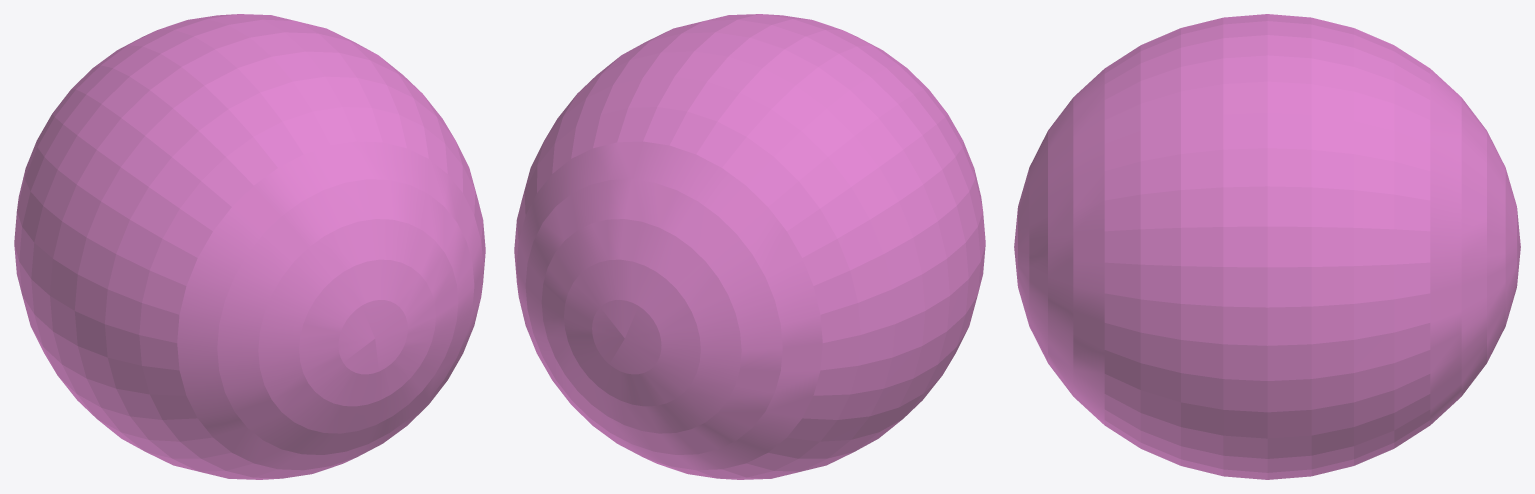
Rendered from mercurio.gltf.
3 renders of one model, left to right at view 1: azimuth 30°, elevation 25°; view 2: azimuth 150°, elevation 25°; view 3: azimuth 270°, elevation 25°, orthographic.
Parts seen in each view (by area): view 1: mercurio; view 2: mercurio; view 3: mercurio.
Boxes of the visible parts, x1,y1,x2,y2 form: mercurio: (14, 14, 485, 479); mercurio: (514, 14, 985, 479); mercurio: (1014, 14, 1520, 479).
Size of the model in its own units: 0.12 by 0.12 by 0.13.
